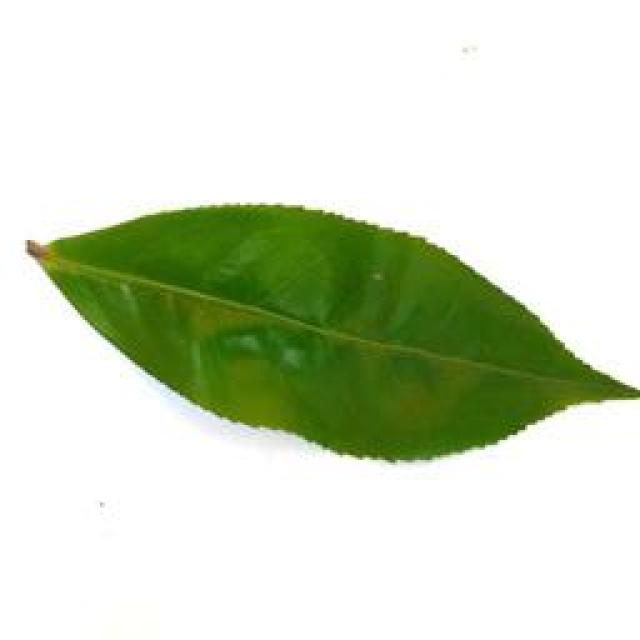Healthy: (18, 185, 640, 469)
